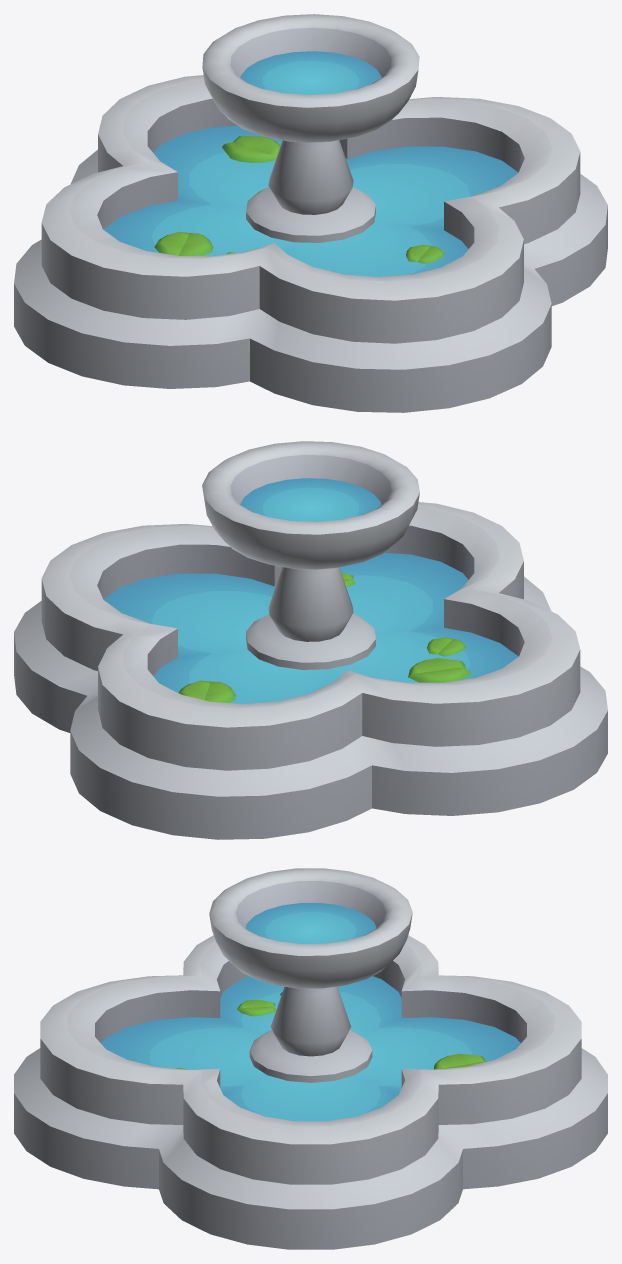
The model's file is fountain.gltf.
3 views of the same model, one above another, from view 1: azimuth 30°, elevation 25°; view 2: azimuth 150°, elevation 25°; view 3: azimuth 270°, elevation 25° (orthographic). The views are drawn at different scales.
Visible parts, largest first — view 1: fountain, fountain_water, fountain_leaves; view 2: fountain, fountain_water, fountain_leaves; view 3: fountain, fountain_water, fountain_leaves.
Boxes of the visible parts, x1,y1,x2,y2 form: fountain: [14, 14, 607, 412]; fountain_water: [103, 51, 518, 276]; fountain_leaves: [154, 135, 444, 263]; fountain: [14, 441, 607, 839]; fountain_water: [103, 478, 518, 703]; fountain_leaves: [179, 573, 472, 702]; fountain: [14, 868, 607, 1249]; fountain_water: [101, 903, 520, 1121]; fountain_leaves: [177, 992, 485, 1069].
Size of the model in its own units: 4 by 1.6 by 4.
Materials: 1 (1 with a texture image).
